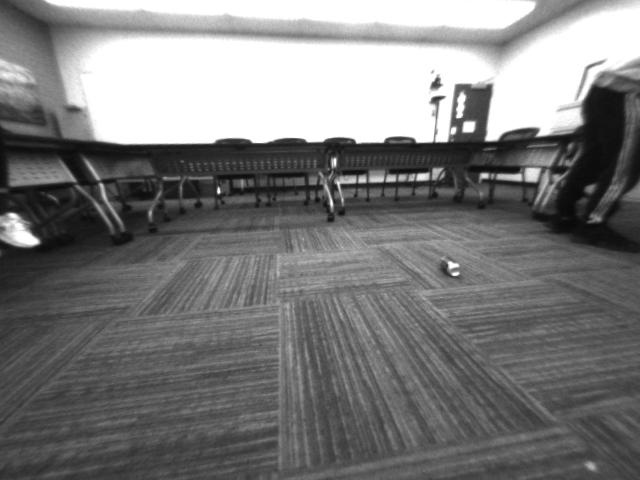can: (435, 248, 474, 285)
